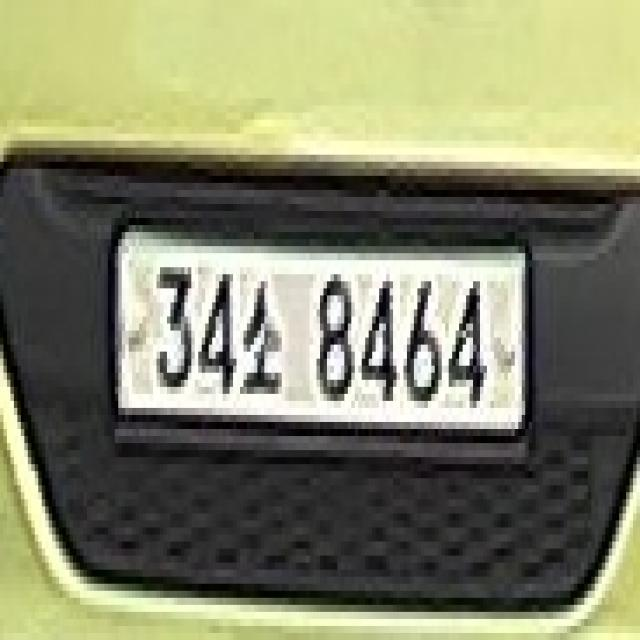3: (156, 260, 195, 387)
4: (445, 274, 484, 408), (198, 274, 237, 401), (358, 281, 397, 401)
6: (400, 274, 442, 401)
8: (313, 267, 355, 408)
license_plate: (111, 218, 532, 450)
so: (240, 281, 285, 408)
